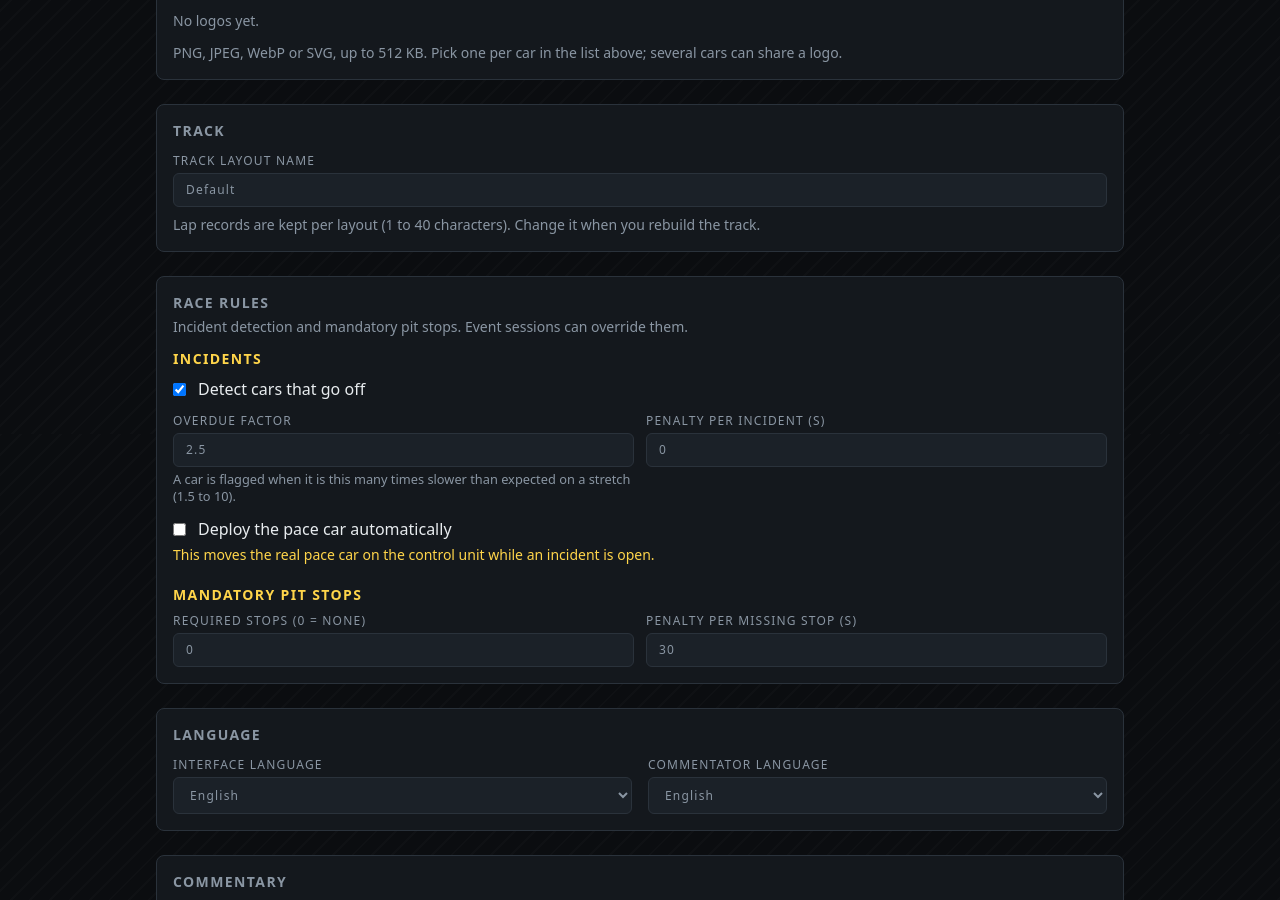
Scenario: rules in Settings › snaps out-of-range values into range on blur
(page scrolled)
Replace the text in the number field with test id "rules-factor" with "99" at [404, 450], box [173,433,634,467]
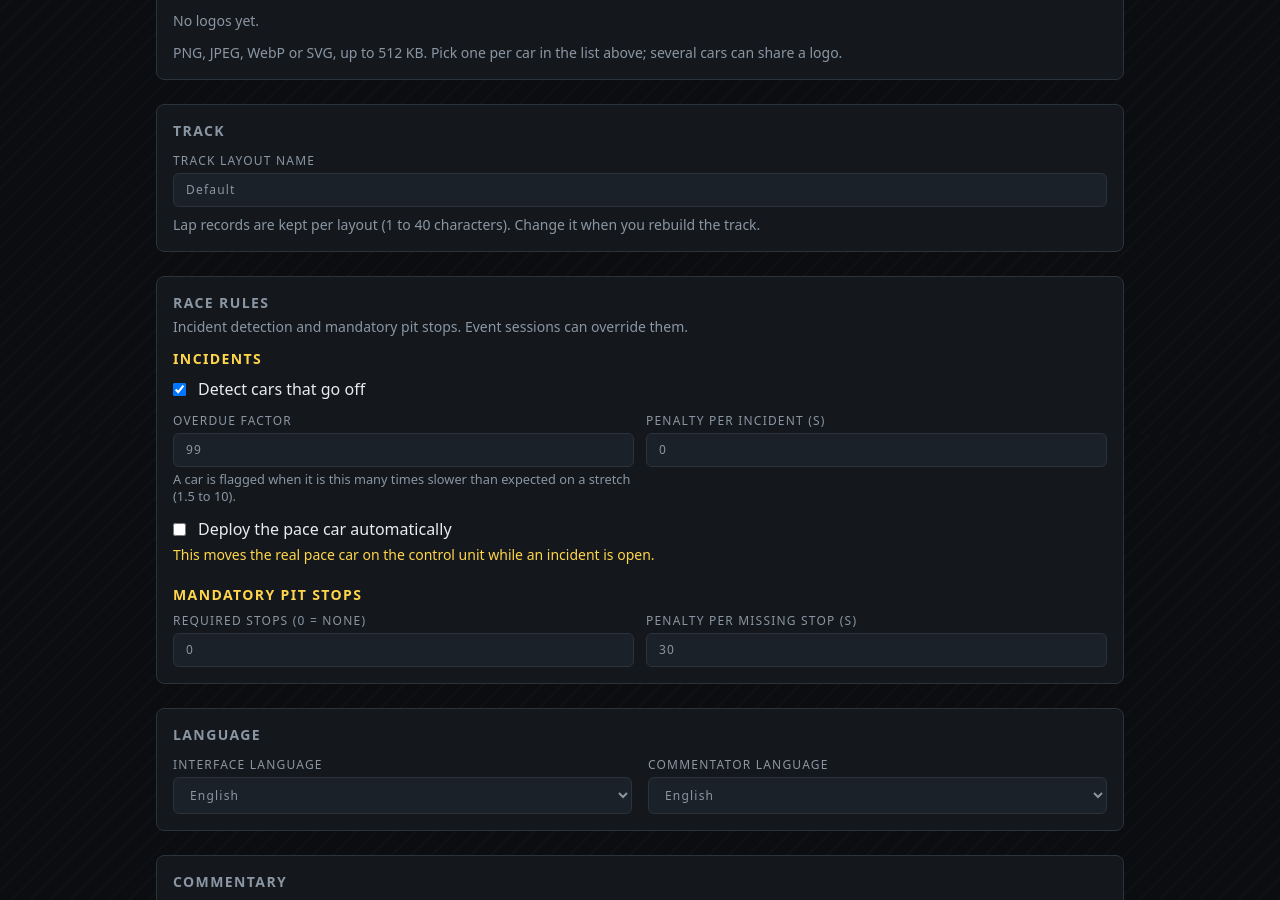
Leave the number field with test id "rules-factor", box [173,433,634,467]
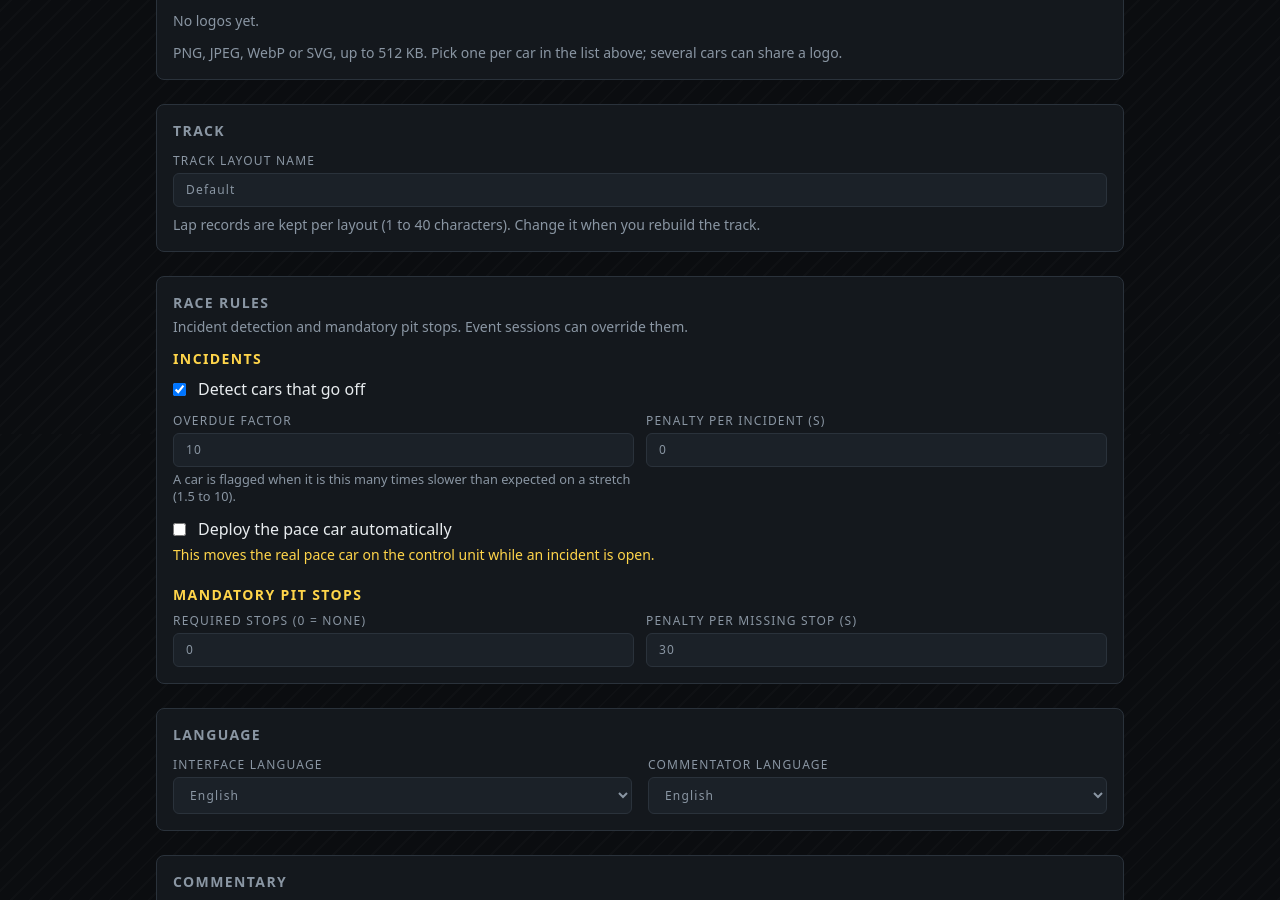
Expected: the number field with test id "rules-factor" holds "10", [173,433,634,467]
Replace the text in the number field with test id "rules-min-stops" with "-3" at [404, 650], box [173,633,634,667]
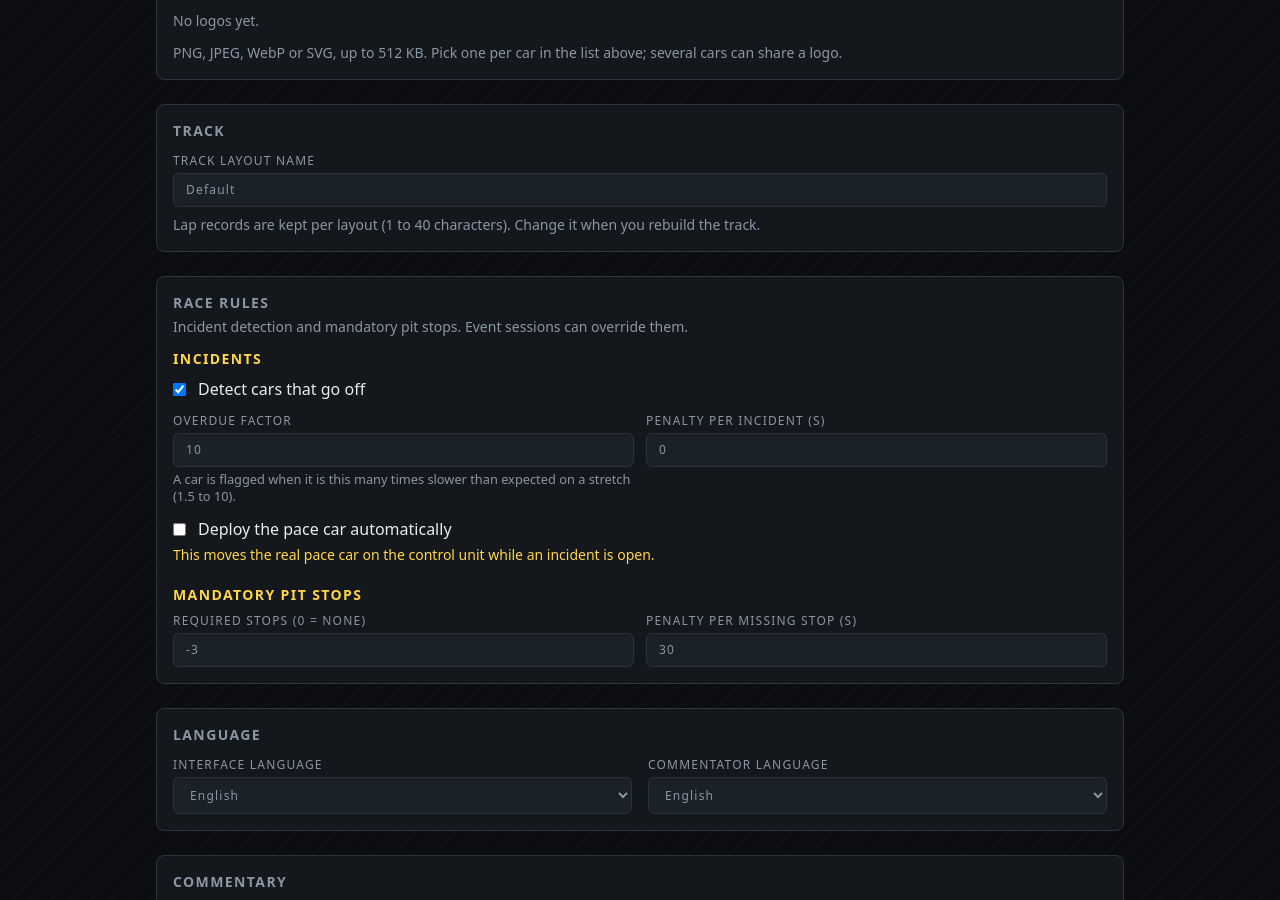
Leave the number field with test id "rules-min-stops", box [173,633,634,667]
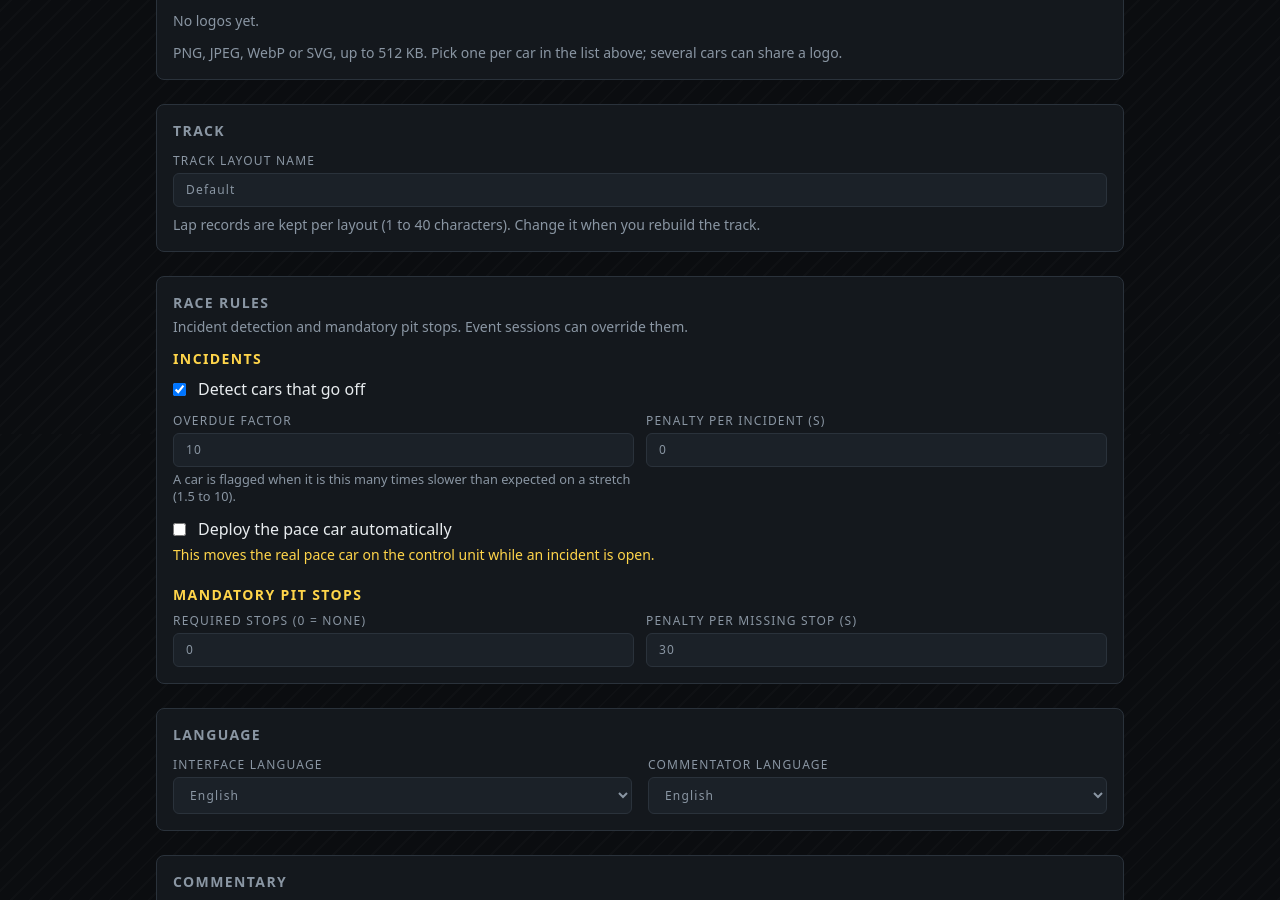
Expected: the number field with test id "rules-min-stops" holds "0", [173,633,634,667]
